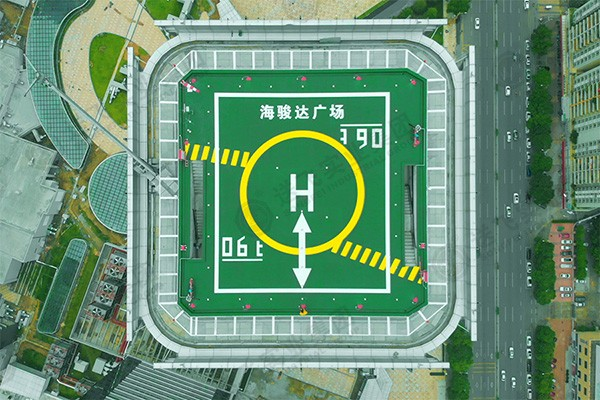Apron: (239, 131, 366, 253)
